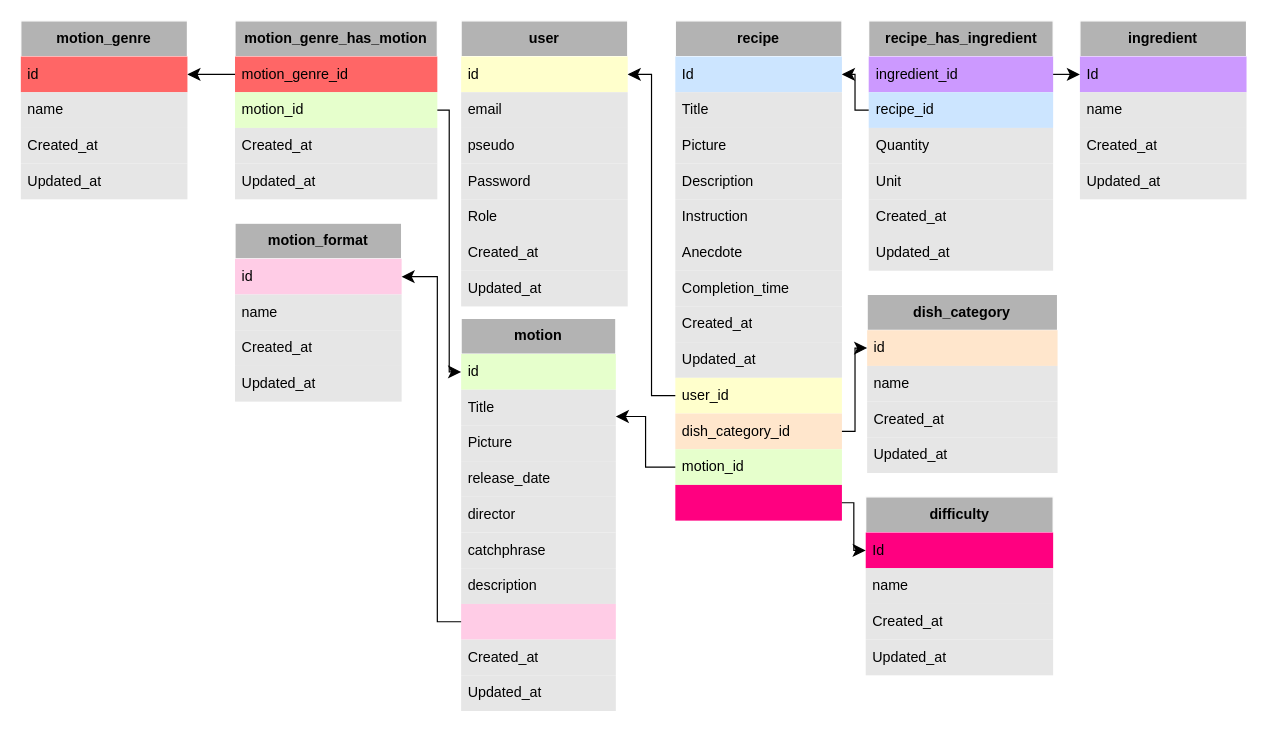
The diagram is 1267 pixels wide and 732 high, and some of its shapes have lost their labels. Here are the shapes that lost their labels. From the top down, the centre of each, then its label:
pixel 758 502: difficulty_id
pixel 538 621: motion_format_id
